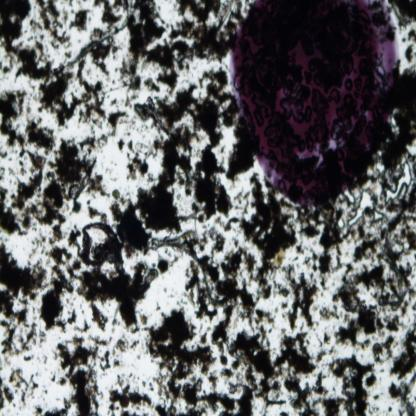Air bubble: (385, 161, 411, 203), (348, 191, 375, 226), (344, 188, 355, 205), (372, 208, 384, 222), (337, 218, 345, 229)
Background material: (150, 236, 256, 320), (133, 84, 195, 195), (145, 306, 219, 390), (249, 179, 296, 302), (82, 261, 159, 334), (122, 0, 178, 94), (231, 329, 286, 415), (52, 131, 110, 210), (333, 264, 385, 346), (178, 1, 236, 74), (0, 241, 48, 327), (55, 333, 104, 415), (380, 205, 414, 320), (38, 241, 81, 331), (327, 355, 381, 416), (192, 142, 234, 219), (195, 69, 238, 144), (281, 265, 319, 332), (181, 369, 234, 414), (22, 173, 66, 227), (138, 180, 180, 236), (40, 73, 81, 128), (77, 64, 107, 132), (274, 334, 316, 378), (0, 87, 26, 158), (321, 208, 343, 289), (34, 0, 71, 48), (14, 42, 54, 84), (208, 303, 234, 367), (154, 376, 206, 406), (0, 0, 31, 50), (106, 376, 151, 410), (225, 129, 253, 183), (0, 318, 38, 356), (284, 376, 322, 414), (385, 370, 416, 416), (343, 226, 381, 262), (389, 326, 416, 376), (18, 152, 45, 201), (0, 186, 25, 238), (126, 139, 157, 180), (26, 117, 56, 155), (10, 367, 38, 403), (297, 206, 322, 242), (92, 0, 122, 26), (390, 4, 416, 31), (92, 42, 112, 76), (35, 397, 71, 415), (106, 110, 128, 137), (254, 306, 278, 329), (112, 338, 129, 369), (70, 7, 90, 32), (153, 400, 182, 416), (156, 253, 178, 274), (319, 302, 342, 322), (86, 204, 109, 222), (381, 334, 396, 361), (0, 377, 13, 408), (214, 217, 240, 232), (69, 224, 81, 256), (314, 371, 328, 396), (0, 54, 15, 76), (51, 223, 66, 245), (304, 252, 318, 274), (384, 311, 400, 330), (98, 349, 111, 372), (404, 44, 416, 66), (122, 93, 138, 108), (74, 320, 90, 334), (111, 188, 125, 204), (317, 331, 331, 345), (406, 27, 416, 45), (66, 309, 78, 324), (316, 349, 328, 364), (38, 328, 47, 345), (120, 410, 141, 416), (22, 354, 36, 363), (295, 243, 304, 255), (117, 137, 124, 152), (57, 376, 67, 386), (50, 371, 56, 385), (0, 166, 6, 179), (375, 394, 380, 402), (388, 406, 393, 413)
Cellulose filter fibre: (73, 0, 135, 64), (81, 224, 121, 266)
Diatom: (373, 341, 381, 355)
Fragment: (118, 203, 148, 248)
Pen: (235, 0, 405, 209)
